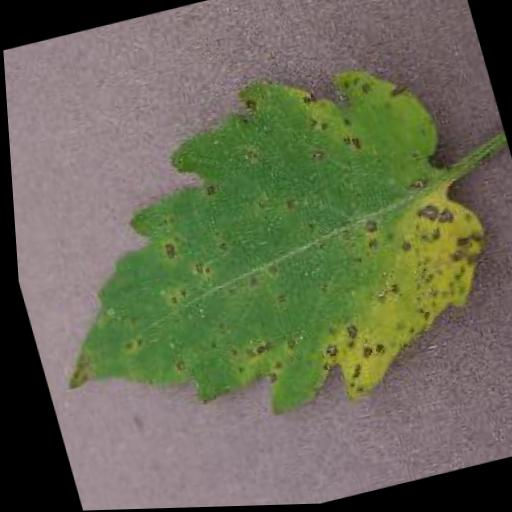Septoria: (3, 36, 512, 470)
